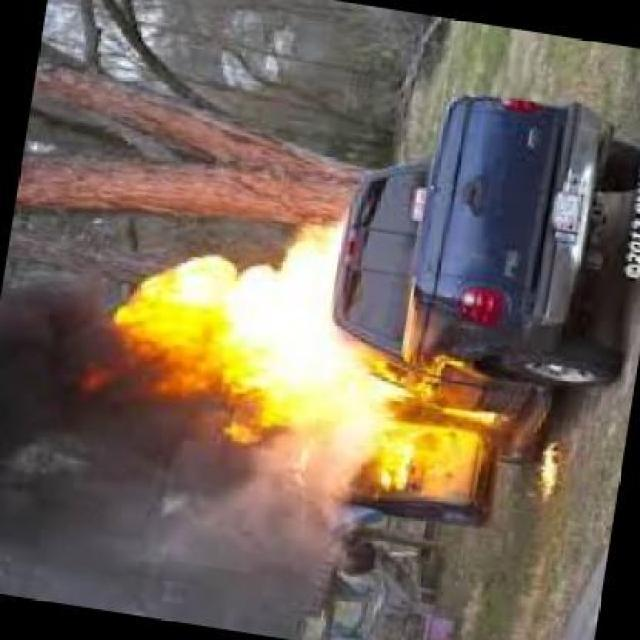Fire: (110, 216, 410, 478)
Smoke: (64, 473, 372, 624), (0, 268, 112, 594)
